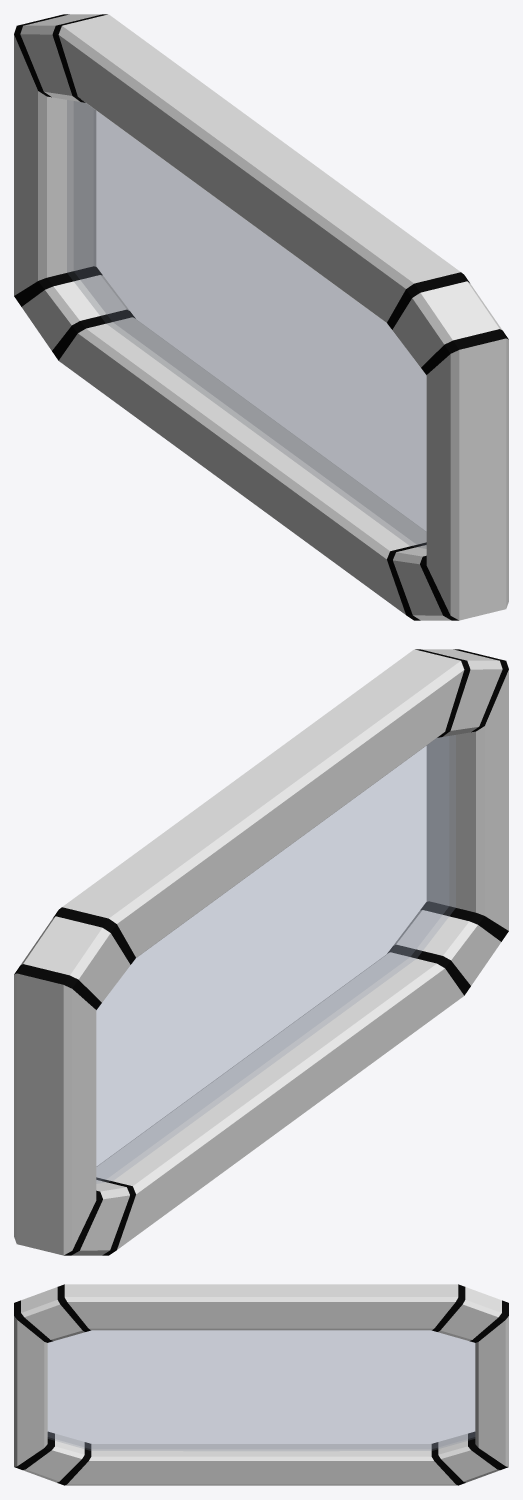
File: ChangMoon.fbx
3 views of the same model, one above another, from view 1: azimuth 30°, elevation 25°; view 2: azimuth 150°, elevation 25°; view 3: azimuth 270°, elevation 25° (orthographic). The views are drawn at different scales.
Visible parts, largest first — view 1: Cube.002, Cube; view 2: Cube.002, Cube; view 3: Cube.002, Cube.
Part boxes in pixels (x1,y1,x2,y2): Cube.002: (14, 14, 508, 620); Cube: (67, 100, 426, 548); Cube.002: (14, 649, 508, 1255); Cube: (96, 735, 455, 1183); Cube.002: (14, 1284, 508, 1485); Cube: (48, 1330, 474, 1450).
Bounding box in the file's own units: 200 × 1105 × 2630.
